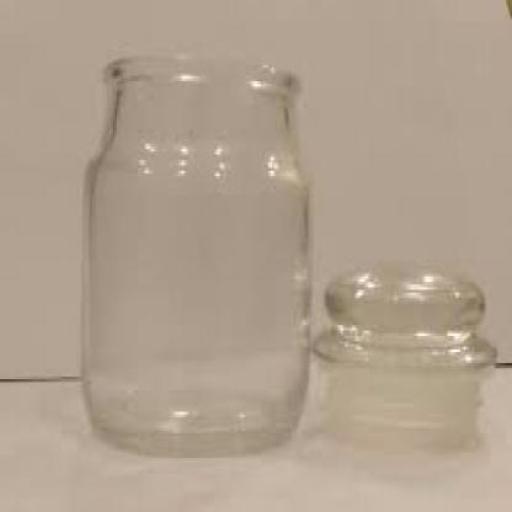glass: (79, 53, 309, 450), (318, 266, 493, 452)
